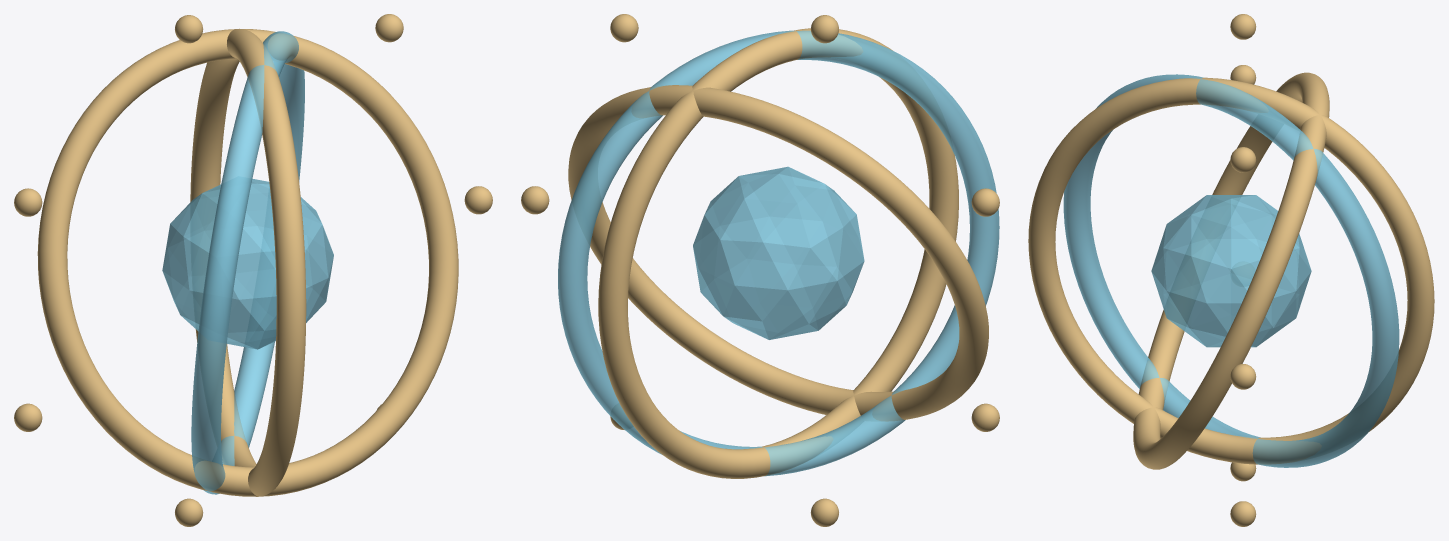
Rendered from glass-citadel.glb.
3 views of the same model, side by side, from view 1: azimuth 30°, elevation 25°; view 2: azimuth 150°, elevation 25°; view 3: azimuth 270°, elevation 25° (orthographic). The views are drawn at different scales.
Parts seen in each view (by area): view 1: Meridian gold, Oblique gold, Equatorial ice, Faceted institutional heart, Council node 05, Council node 01, Council node 04, Council node 06, Council node 02, Council node 03; view 2: Oblique gold, Meridian gold, Equatorial ice, Faceted institutional heart, Council node 05, Council node 01, Council node 04, Council node 06, Council node 02, Council node 03; view 3: Oblique gold, Equatorial ice, Meridian gold, Faceted institutional heart, Council node 02, Council node 03, Council node 07, Council node 01.
Part boxes in pixels (x1=…): Meridian gold: x1=37, y1=29, x2=458, y2=496; Oblique gold: x1=190, y1=28, x2=306, y2=496; Equatorial ice: x1=191, y1=31, x2=304, y2=494; Faceted institutional heart: x1=162, y1=178, x2=333, y2=349; Council node 05: x1=14, y1=403, x2=42, y2=431; Council node 01: x1=464, y1=186, x2=492, y2=214; Council node 04: x1=14, y1=188, x2=42, y2=216; Council node 06: x1=175, y1=498, x2=203, y2=526; Council node 02: x1=375, y1=14, x2=403, y2=42; Council node 03: x1=175, y1=15, x2=203, y2=43; Oblique gold: x1=598, y1=28, x2=958, y2=478; Meridian gold: x1=568, y1=85, x2=988, y2=421; Equatorial ice: x1=558, y1=30, x2=999, y2=476; Faceted institutional heart: x1=693, y1=166, x2=864, y2=339; Council node 05: x1=971, y1=403, x2=999, y2=431; Council node 01: x1=521, y1=186, x2=549, y2=214; Council node 04: x1=971, y1=188, x2=999, y2=216; Council node 06: x1=810, y1=498, x2=838, y2=526; Council node 02: x1=610, y1=14, x2=638, y2=42; Council node 03: x1=810, y1=15, x2=838, y2=43; Oblique gold: x1=1028, y1=77, x2=1434, y2=464; Equatorial ice: x1=1063, y1=74, x2=1399, y2=467; Meridian gold: x1=1133, y1=72, x2=1329, y2=469; Faceted institutional heart: x1=1151, y1=195, x2=1311, y2=347; Council node 02: x1=1230, y1=147, x2=1256, y2=172; Council node 03: x1=1230, y1=14, x2=1256, y2=39; Council node 07: x1=1230, y1=501, x2=1256, y2=526; Council node 01: x1=1230, y1=364, x2=1256, y2=389.
Bounding box in the file's own units: 4.25 × 4.35 × 3.45.
